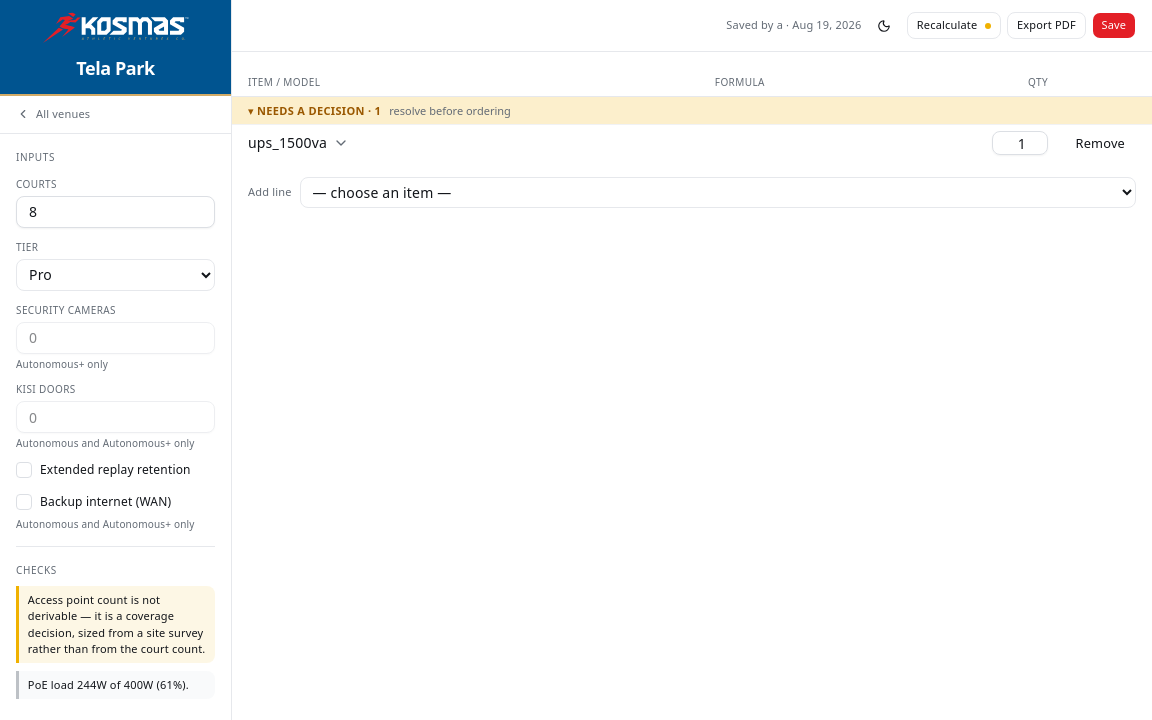
Scenario: names who saved when the optimistic lock rejects the save
Click the button "Save": {"x": 1114, "y": 26} [1092,12,1136,39]
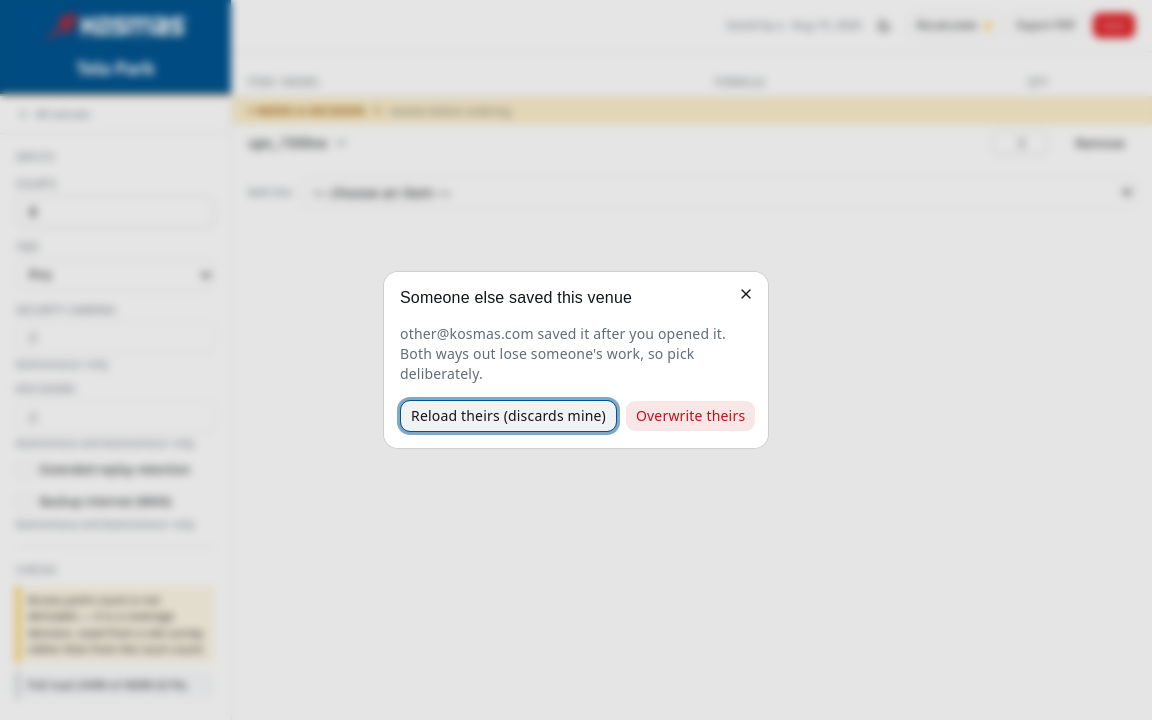
Expected: the text "other@kosmas.com" is shown, [400,324,726,343]
